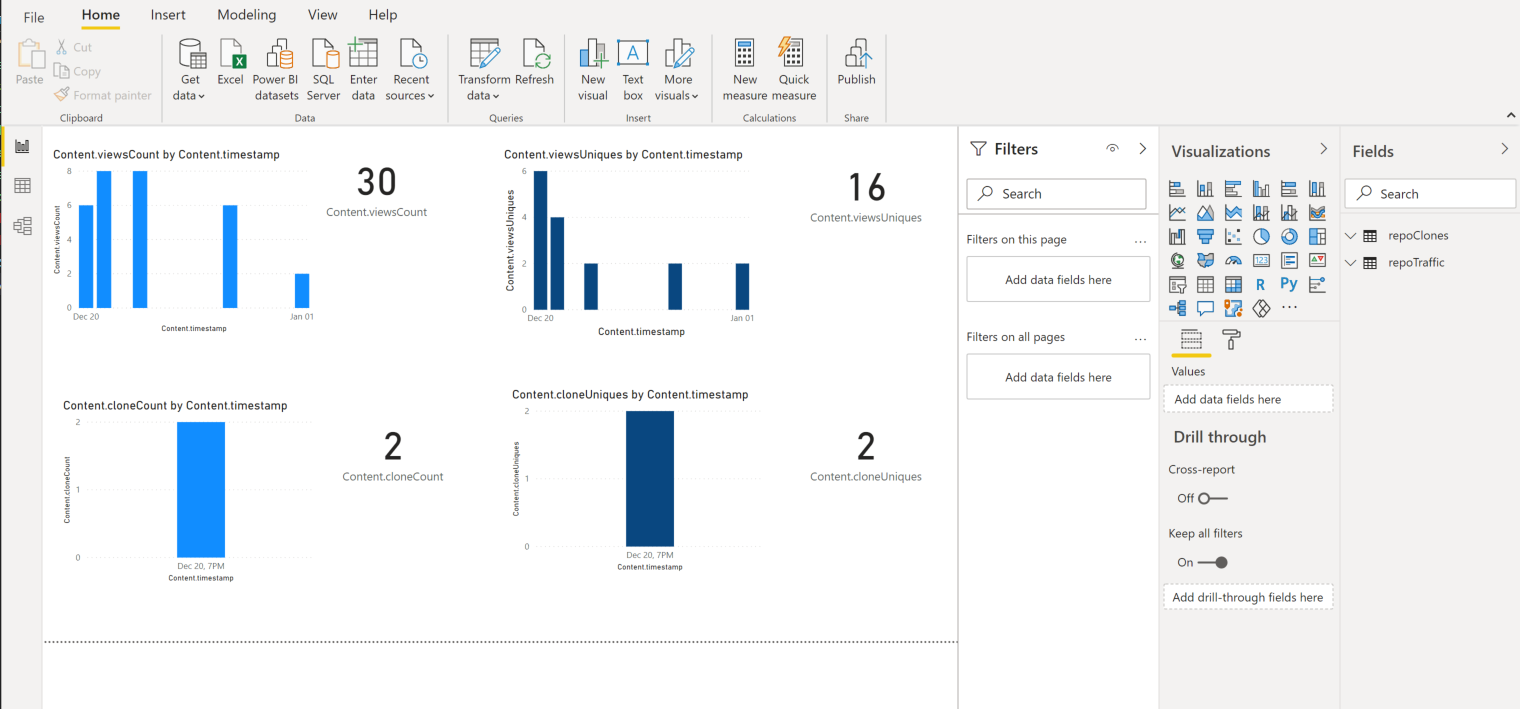

The dashboard page shown, as its layout file describes it:
{"tool":"powerbi","page":{"name":"Overview","canvas":[1280,720],"ordinal":0},"visuals":[{"type":"columnChart","fields":{"Category":["repoTraffic.Content.timestamp"],"Y":["Sum(repoTraffic.Content.viewsCount)"]},"box":[9.7,29.2,376.4,263.6],"z":1001},{"type":"card","fields":{"Values":["Sum(repoTraffic.Content.viewsCount)"]},"box":[382.2,10.7,171.2,139.1],"z":1002},{"type":"columnChart","fields":{"Y":["Sum(repoTraffic.Content.viewsUniques)"],"Category":["repoTraffic.Content.timestamp"]},"box":[640,29.2,361.8,270.4],"z":1003},{"type":"card","fields":{"Values":["Sum(repoTraffic.Content.viewsUniques)"]},"box":[1059.2,18.5,185.8,140.1],"z":1004},{"type":"columnChart","fields":{"Category":["repoClones.Content.timestamp"],"Y":["Sum(repoClones.Content.cloneCount)"]},"box":[24.3,380.3,361.8,261.6],"z":1005},{"type":"card","fields":{"Values":["Sum(repoClones.Content.cloneCount)"]},"box":[397.8,380.3,185.8,140.1],"z":1006},{"type":"columnChart","fields":{"Category":["repoClones.Content.timestamp"],"Y":["Sum(repoClones.Content.cloneUniques)"]},"box":[651.7,364.7,361.8,261.6],"z":1007},{"type":"card","fields":{"Values":["Sum(repoClones.Content.cloneUniques)"]},"box":[1059.2,380.3,185.8,140.1],"z":1008}]}

Visuals, with their boxes on the page's 1280x720 design canvas (x1, y1, x2, y2). These are canvas units, not pixel positions in the 1520x709 screenshot, which may show the page scaled, cropped or inside an application window:
columnChart - repoTraffic.Content.timestamp x Sum(repoTraffic.Content.viewsCount): bbox=(10, 29, 386, 293)
card - Sum(repoTraffic.Content.viewsCount): bbox=(382, 11, 553, 150)
columnChart - Sum(repoTraffic.Content.viewsUniques) x repoTraffic.Content.timestamp: bbox=(640, 29, 1002, 300)
card - Sum(repoTraffic.Content.viewsUniques): bbox=(1059, 18, 1245, 159)
columnChart - repoClones.Content.timestamp x Sum(repoClones.Content.cloneCount): bbox=(24, 380, 386, 642)
card - Sum(repoClones.Content.cloneCount): bbox=(398, 380, 584, 520)
columnChart - repoClones.Content.timestamp x Sum(repoClones.Content.cloneUniques): bbox=(652, 365, 1014, 626)
card - Sum(repoClones.Content.cloneUniques): bbox=(1059, 380, 1245, 520)
